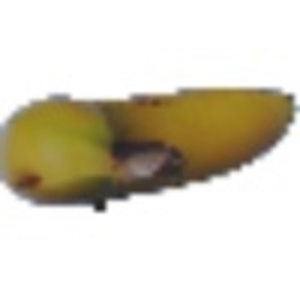banana: (2, 69, 295, 207)
